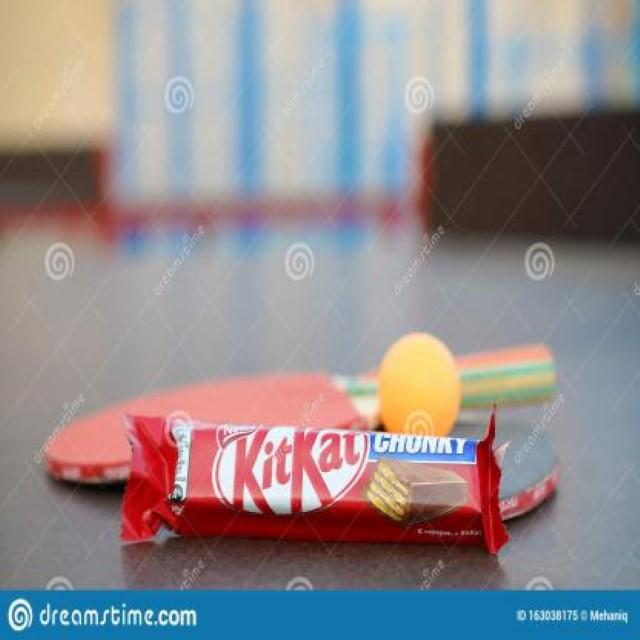kitkat_chocolate: (138, 412, 522, 575)
